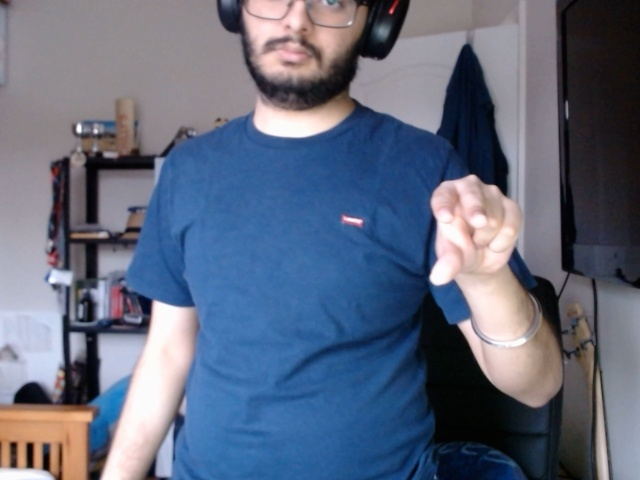No: (412, 171, 536, 294)
